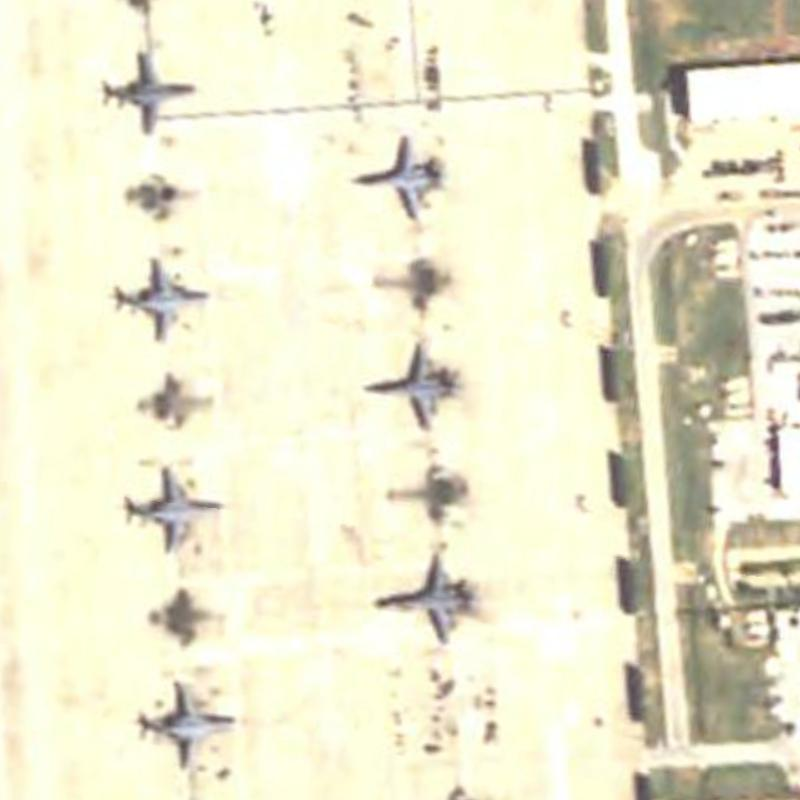A10: (360, 327, 477, 432), (368, 544, 490, 641), (134, 673, 241, 775), (94, 40, 202, 137), (107, 251, 219, 343), (122, 461, 230, 552), (353, 124, 450, 222)
